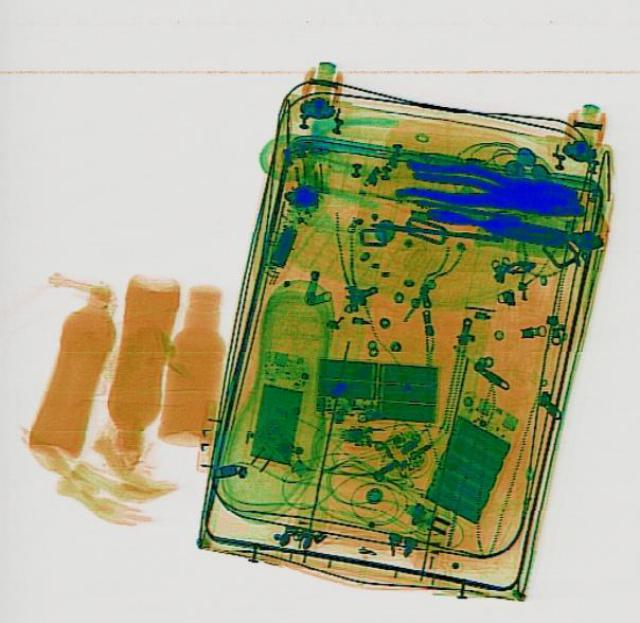Pliers: (394, 155, 582, 219)
